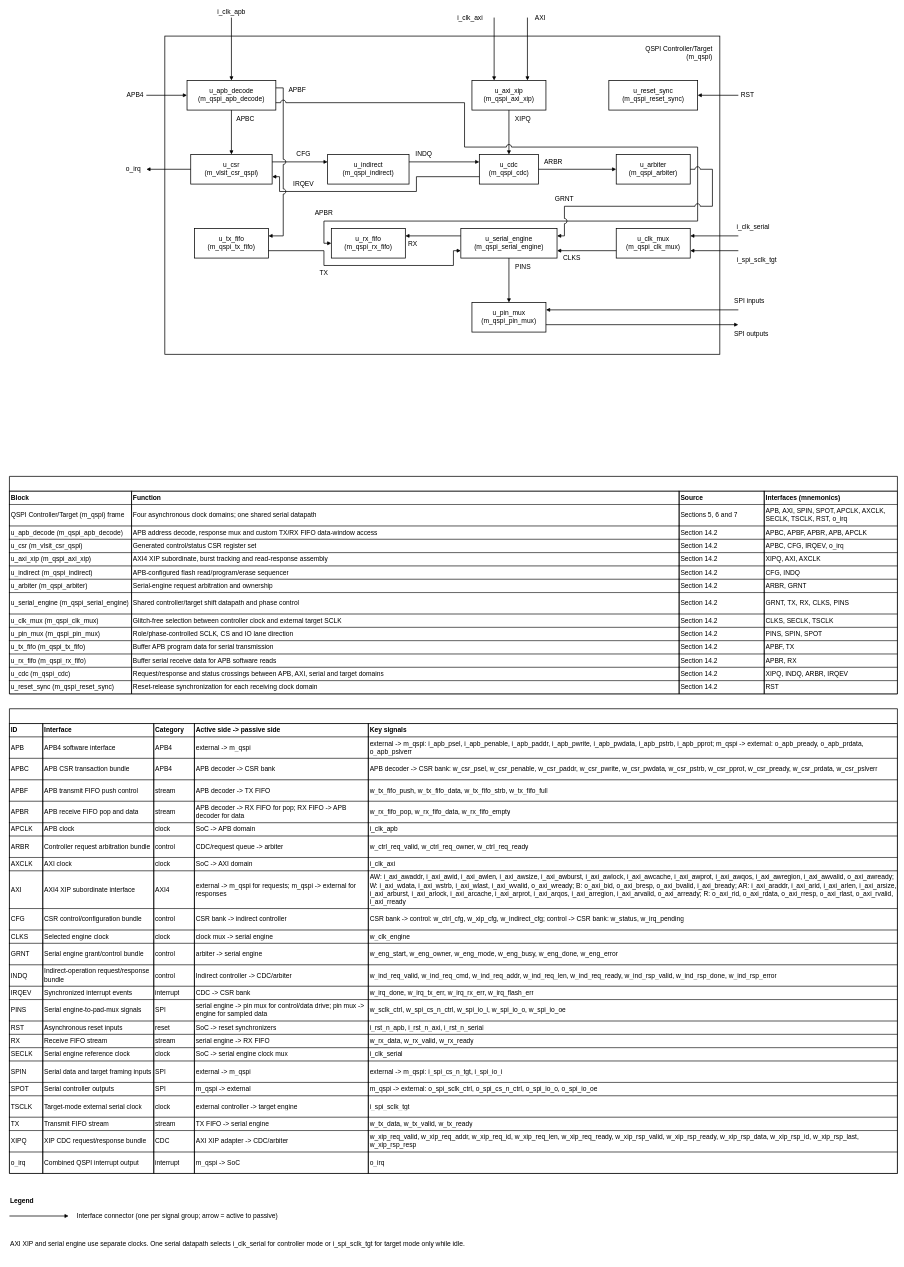
Some shapes in this 904 by 1267 pixel diagram are drawn without their labels. Here are the shapes that lost their labels. From the top down, the box of each, then its label:
(9, 476, 898, 694): Block Functions & Interfaces
(9, 708, 898, 1174): Interface Table
